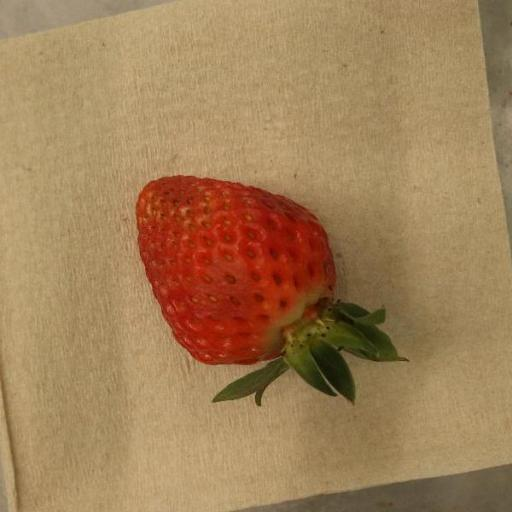Strawberry: (137, 176, 410, 407)
